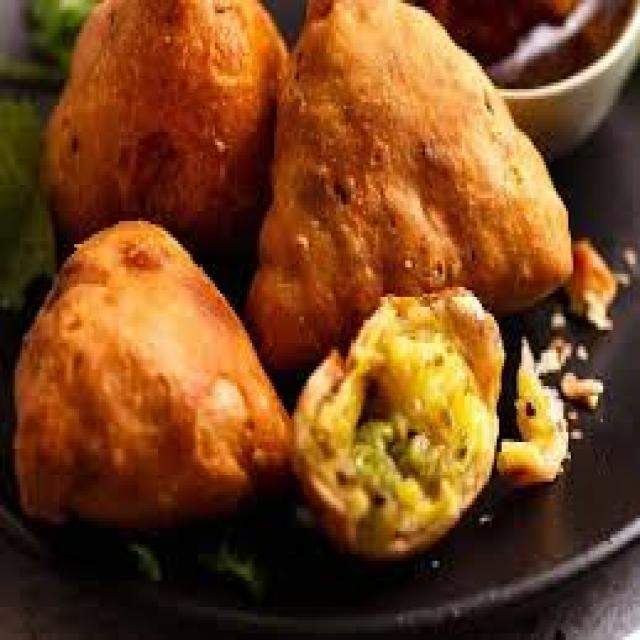SAMOSA: (247, 1, 574, 342), (10, 217, 292, 513), (43, 0, 284, 275), (300, 292, 509, 552)
